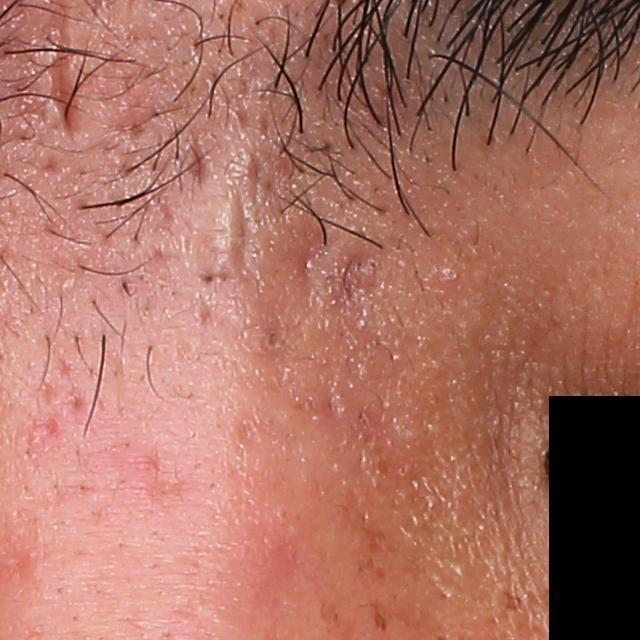atrophic_scar: (245, 144, 308, 216), (330, 244, 378, 313), (294, 221, 332, 303), (225, 183, 252, 297), (185, 138, 210, 193)
comedo: (198, 267, 218, 288), (264, 326, 278, 351)
